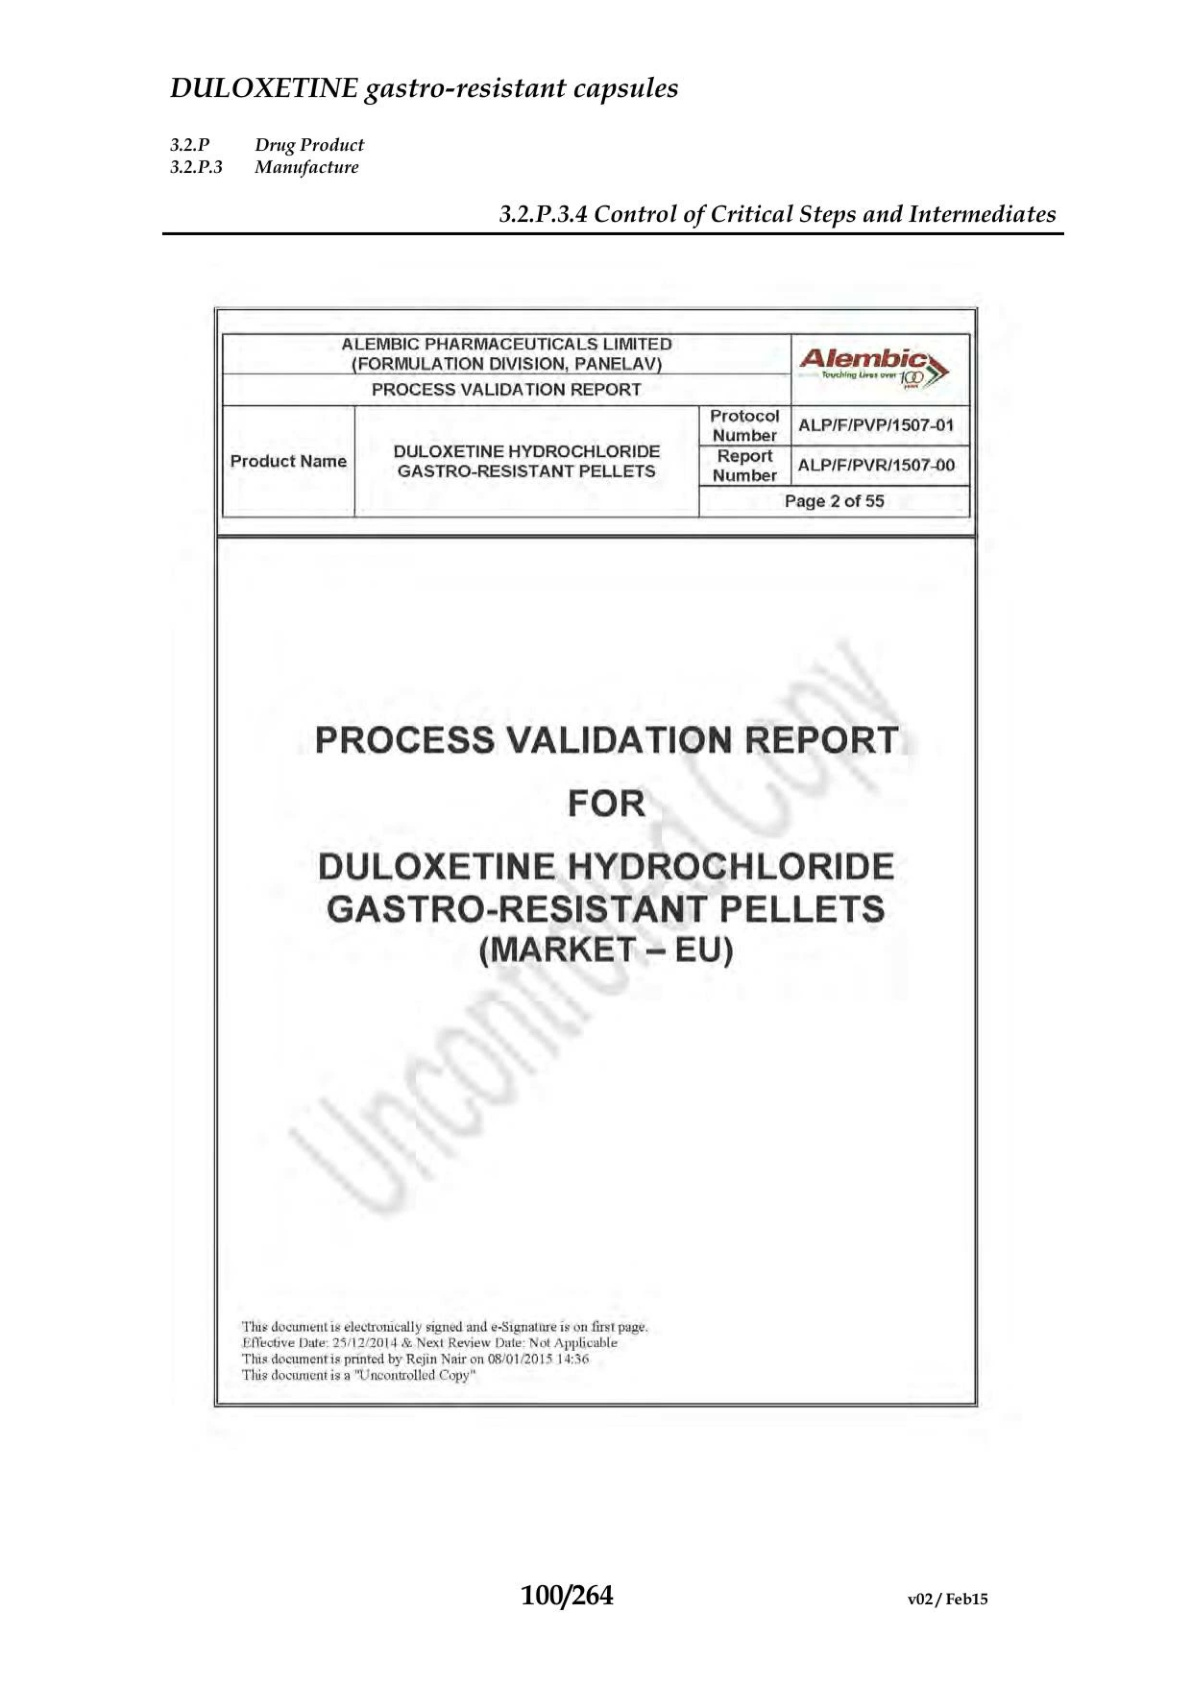merged_cells: (221, 332, 971, 517)
